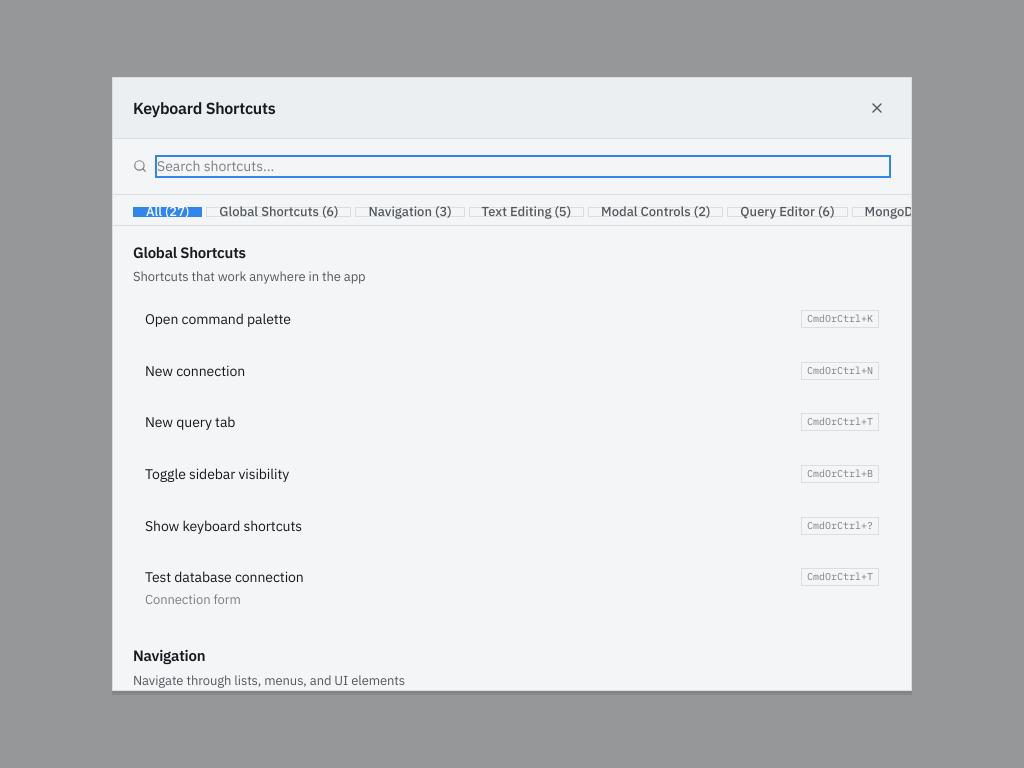
Test: ShortcutsMap component › should filter shortcuts by search
Type "command palette" into the field with placeholder "Search shortcuts...".
click(523, 166); type("command palette")  # box [155,155,891,178]
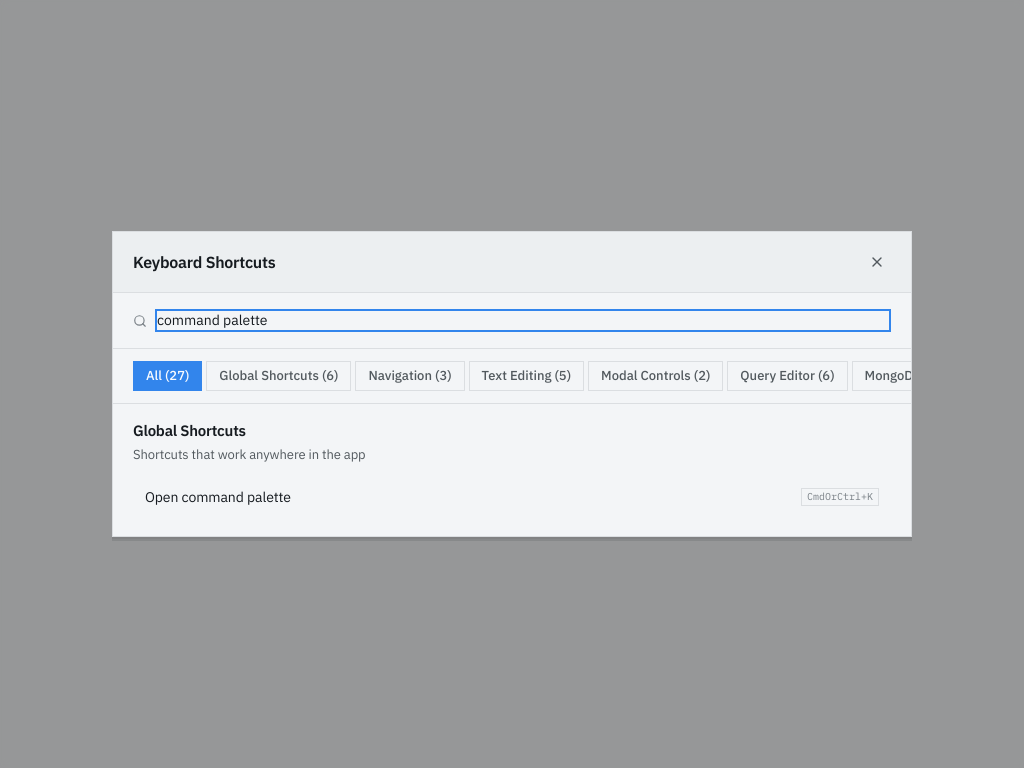
expect the text "Open command palette" is shown: met, box [145,488,291,506]
expect the text "New connection" is gone: met
